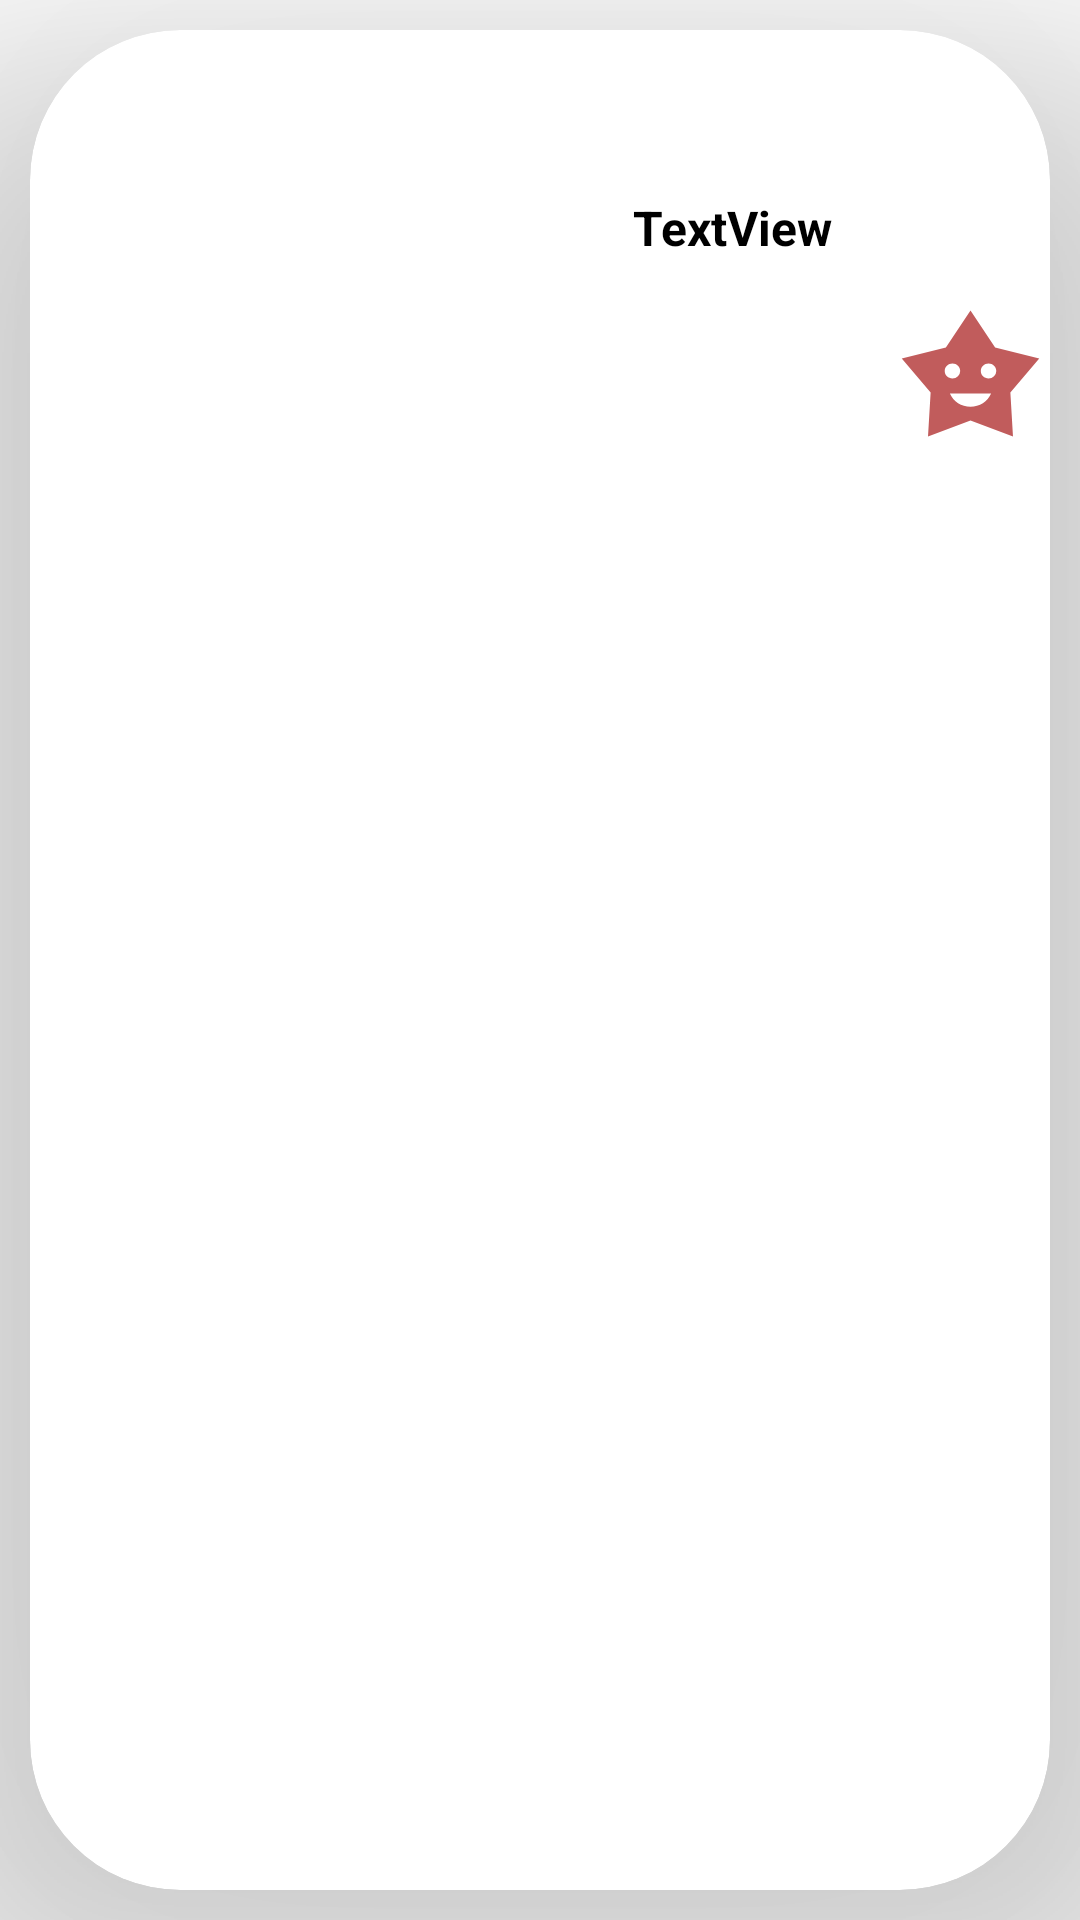

Named icons in this screenshot (1080x1920) and their centers, [x,y]:
star face: [970,373]
